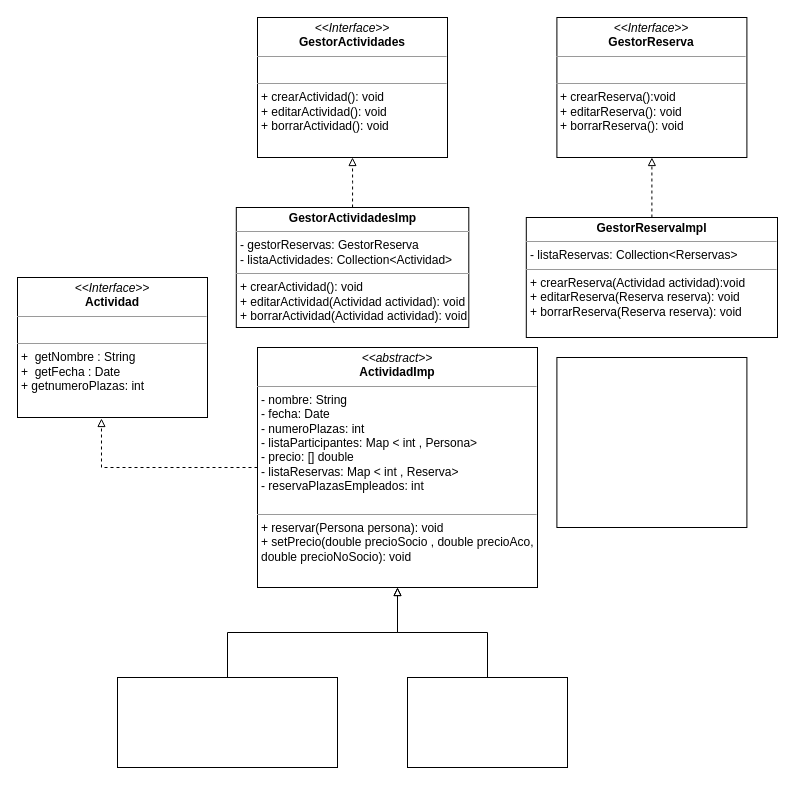
Image size: 795x785. Some labels were removed from this diagram. Each missing label, with the centre of its shape:
ActividadExterna + destino: String + tranporte: enum + reservar(Persona): void: (487,722)
ActividadLocal + reservar(Persona): void: (227,722)
ReservaImp - persona : Persona - fecha: Date - actividad: Actividad: (651,442)
